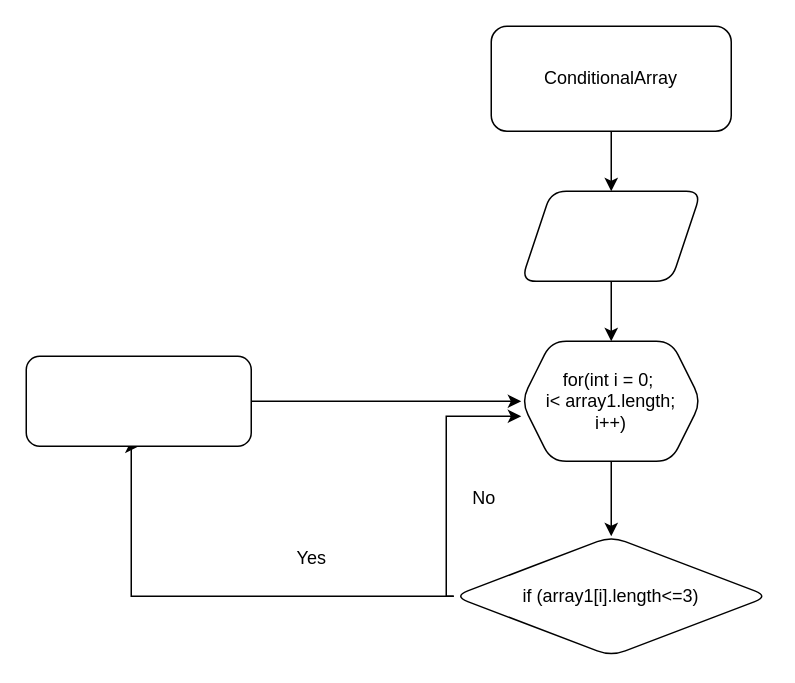
The diagram is 795 pixels wide and 683 high, and some of its shapes have lost their labels. Here are the shapes that lost their labels. From the top down, the box of each, then its label:
(520, 190, 701, 281): string[] array1 string[] array 2 int count = 0
(25, 355, 251, 446): array2[count] = array1[i] count++
